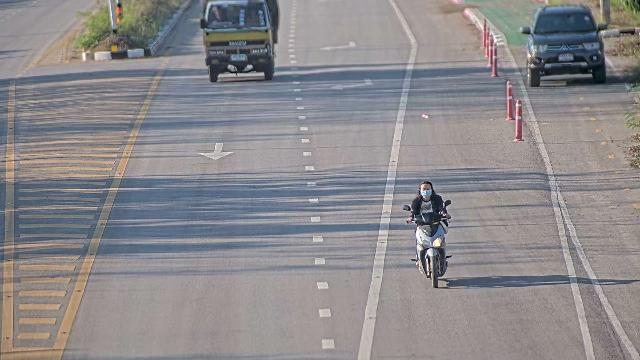motorcycle: (401, 196, 452, 288)
pickup-truck: (519, 4, 608, 87)
truck: (201, 0, 277, 82)
